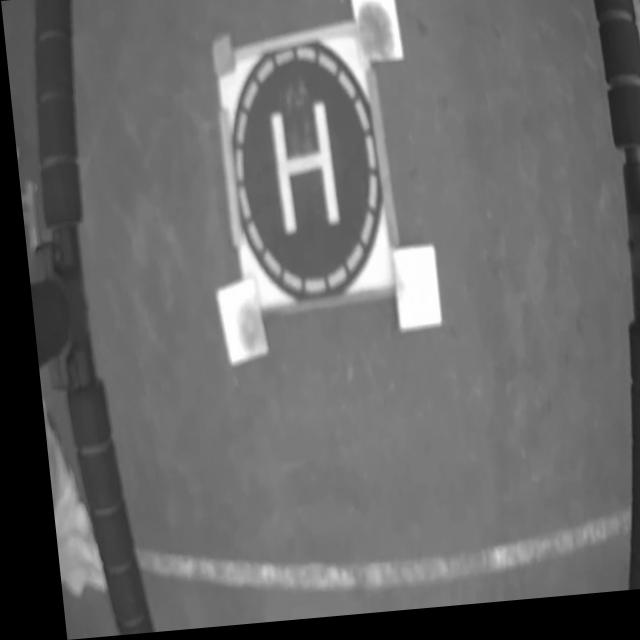Helipad: (264, 103, 333, 240)
